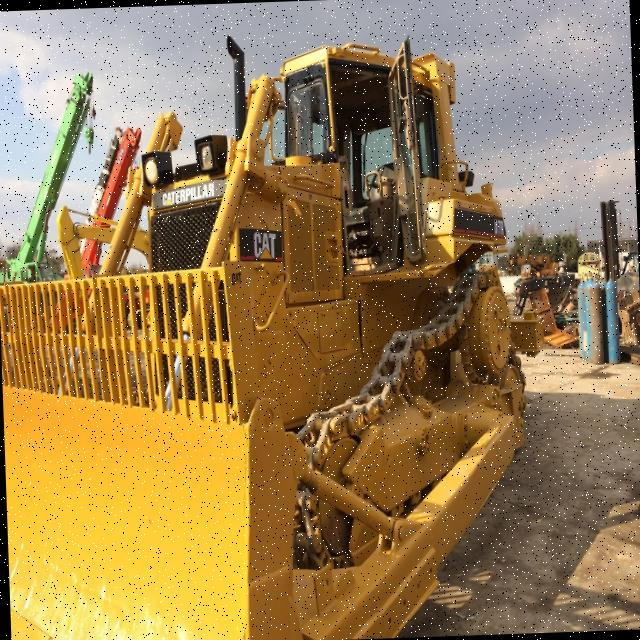Bulldozer: (12, 19, 565, 640)
